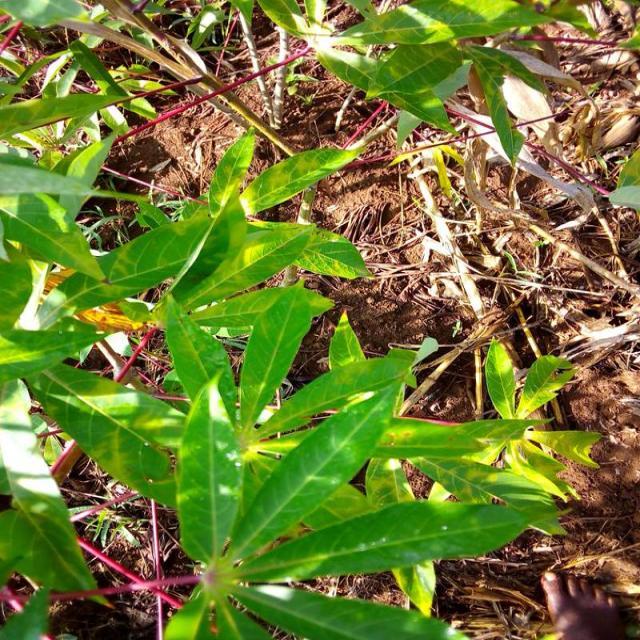cassava leaf: (3, 121, 602, 636)
